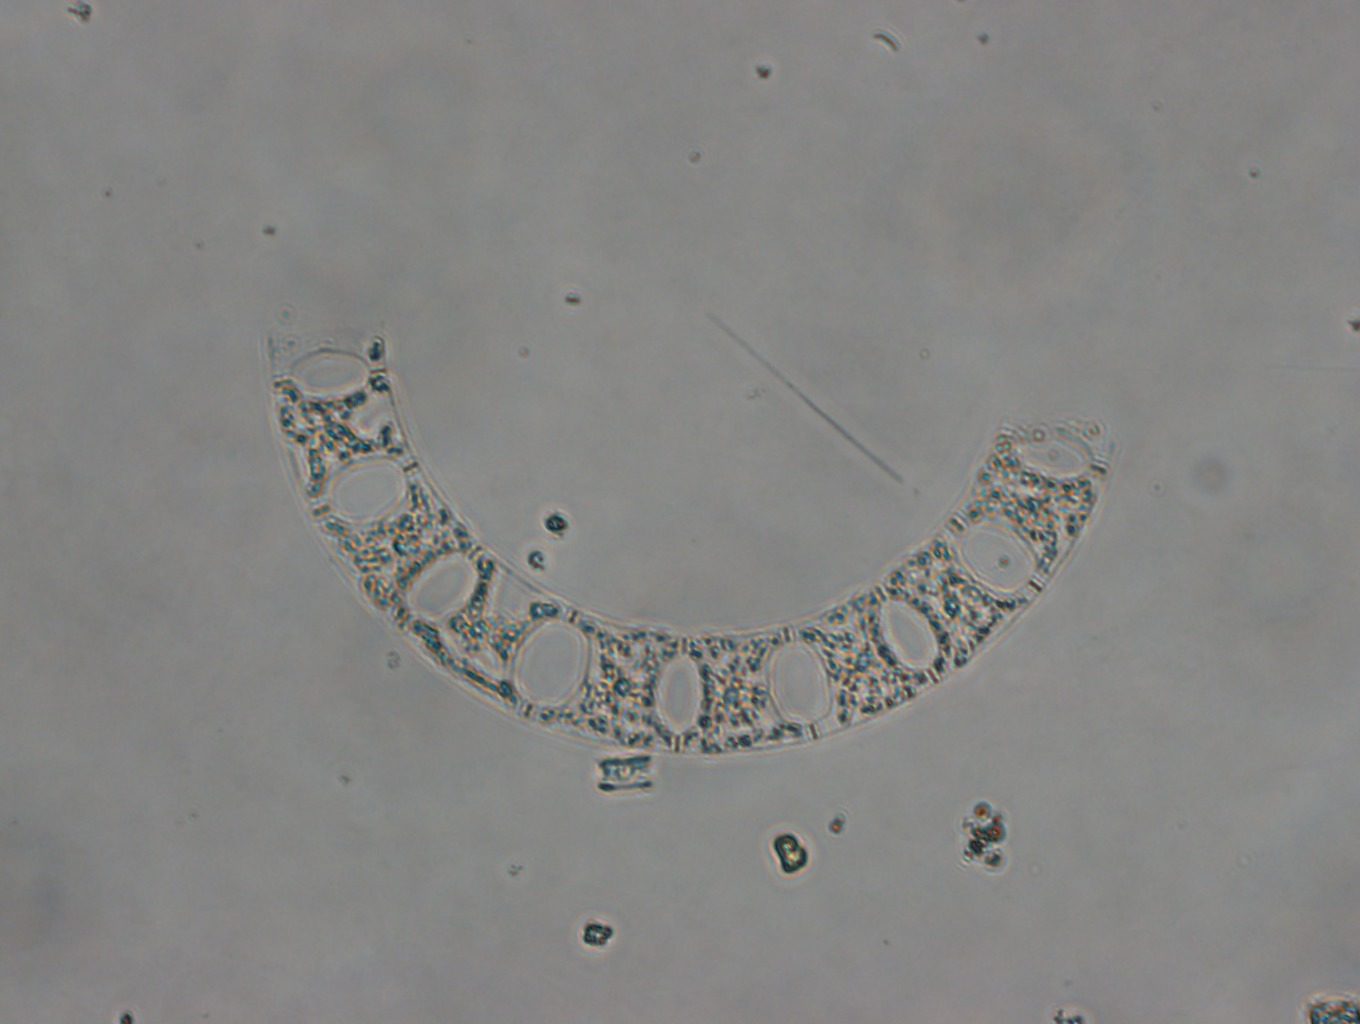eucampia: (261, 325, 1118, 755)
